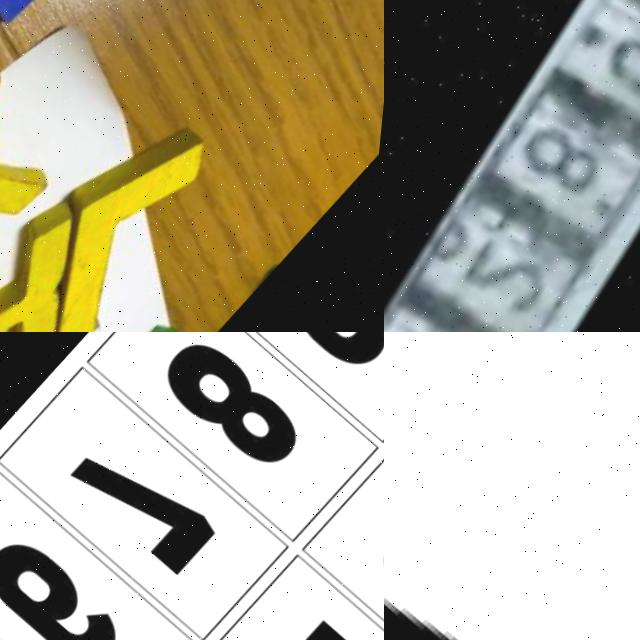0: (576, 11, 640, 152)
2: (451, 222, 584, 332)
6: (0, 523, 147, 640)
7: (54, 425, 237, 588)
8: (145, 332, 326, 486), (494, 100, 633, 230)
9: (232, 332, 384, 388)
J: (384, 419, 640, 640)
L: (18, 103, 259, 332)
R: (0, 173, 149, 332)
X: (0, 61, 93, 309)
